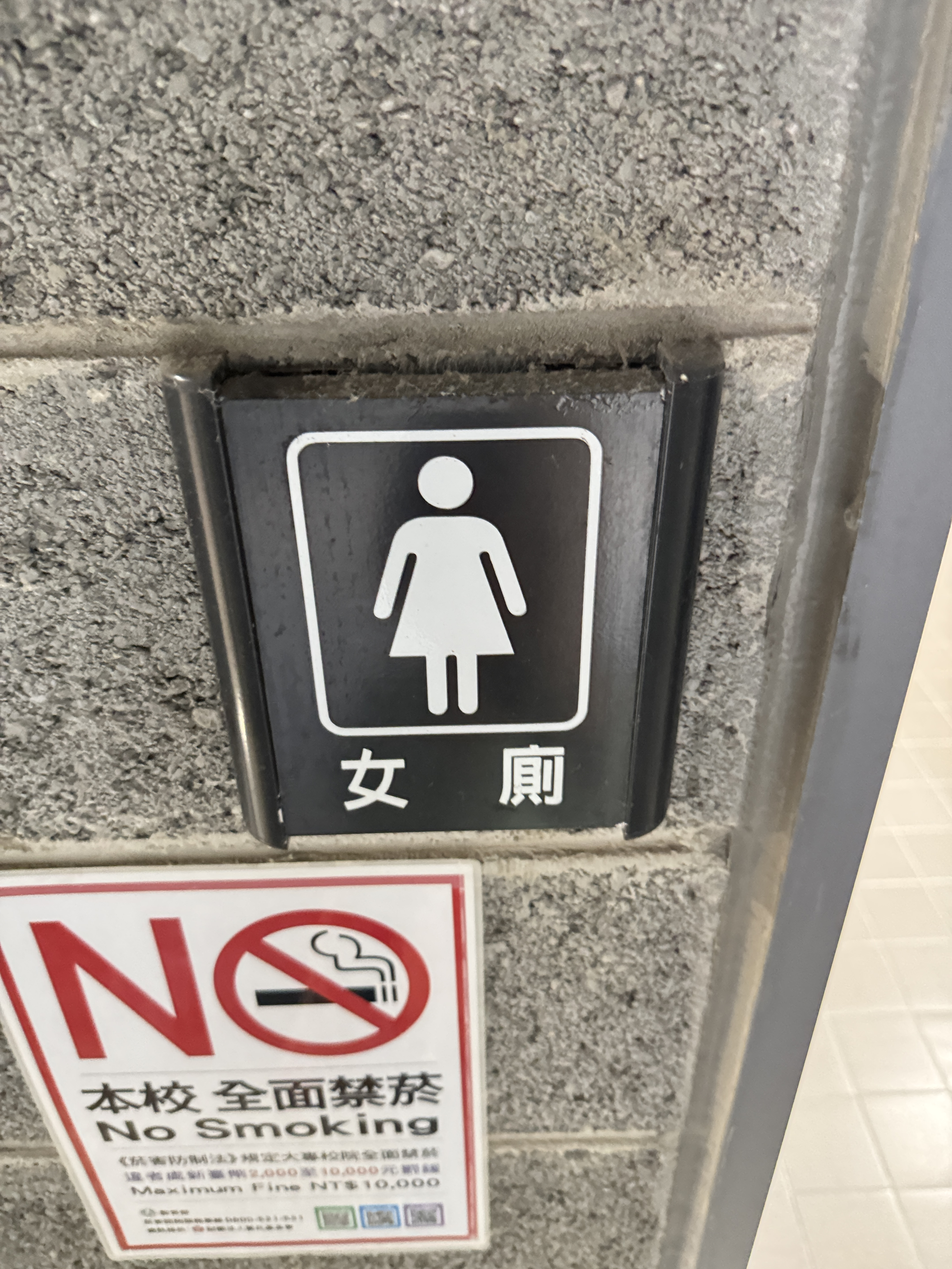toilet_sign: (146, 342, 743, 862), (141, 348, 692, 846)
